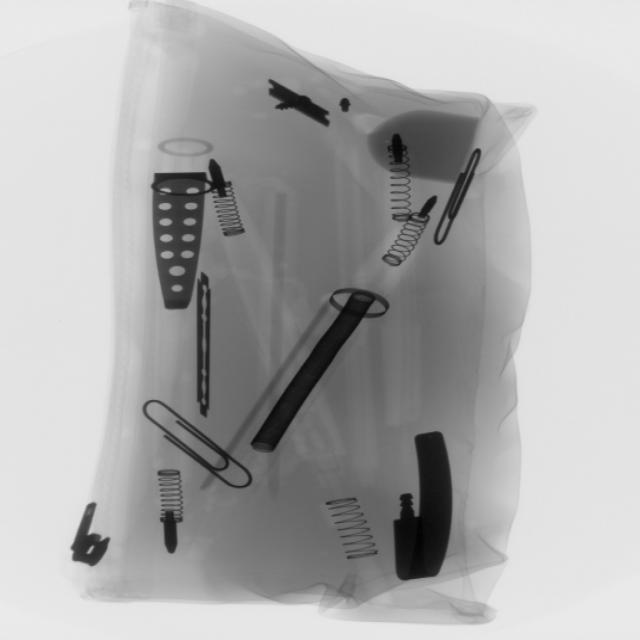SHURIKEN: (183, 265, 225, 419)
